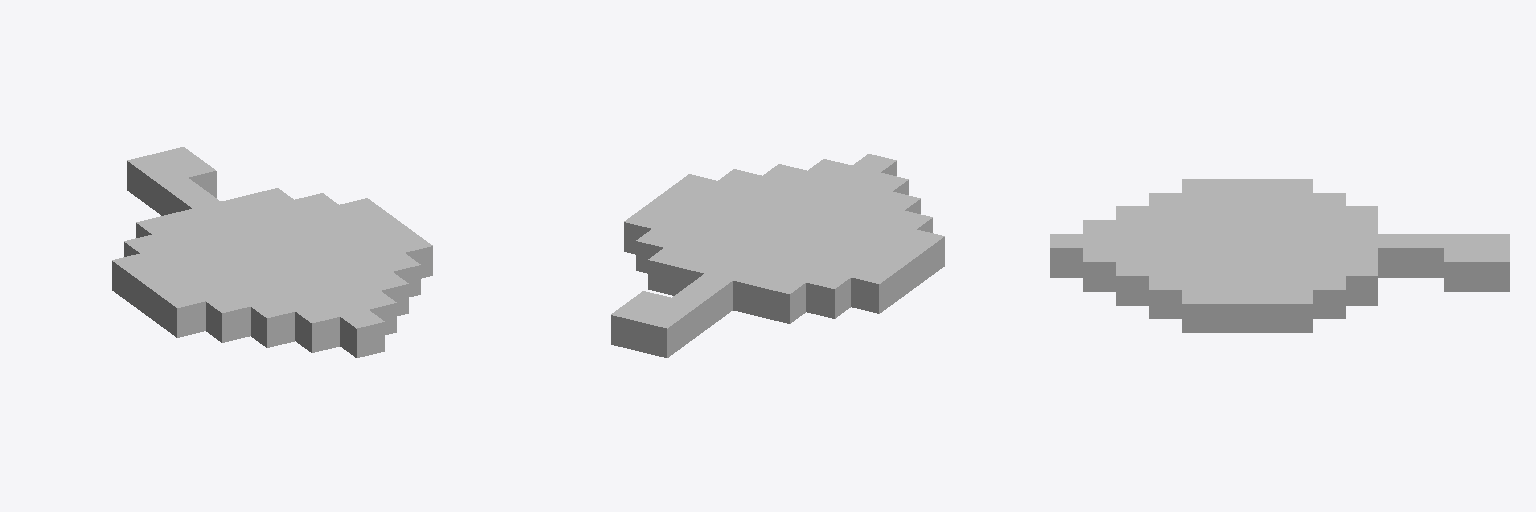
File: leaf.obj
3 renders of one model, left to right at view 1: azimuth 30°, elevation 25°; view 2: azimuth 150°, elevation 25°; view 3: azimuth 270°, elevation 25°, orthographic.
Bounding box in the file's own units: 9 × 1 × 14.